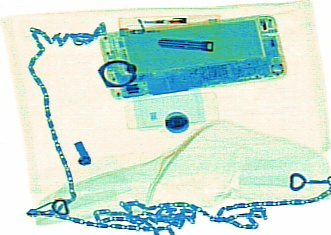lighter: (118, 11, 220, 35)
